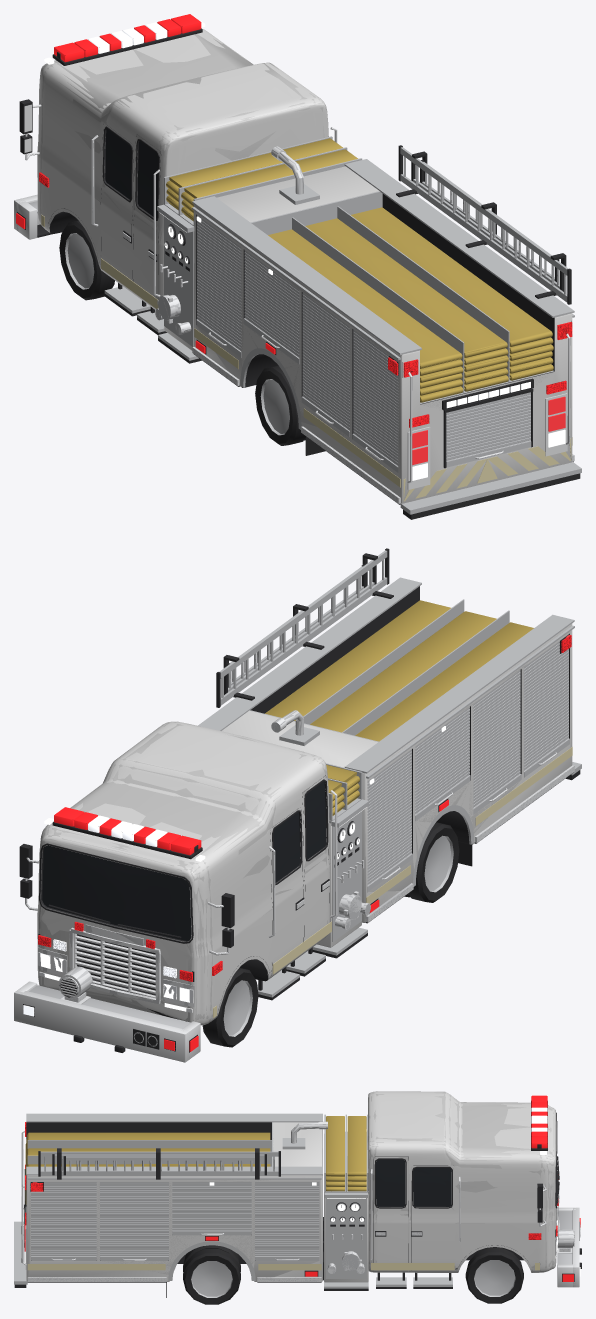
The model's file is road_fire_engine.glb.
The picture shows the model from 3 angles, top to bottom: view 1: azimuth 30°, elevation 25°; view 2: azimuth 150°, elevation 25°; view 3: azimuth 270°, elevation 25°; orthographic projection. The views are drawn at different scales.
Parts seen in each view (by area): view 1: road_fire_engine, road_fire_engine_far; view 2: road_fire_engine, road_fire_engine_far; view 3: road_fire_engine, road_fire_engine_far.
Part boxes in pixels (x1,y1,x2,y2): road_fire_engine: (14,14,581,519); road_fire_engine_far: (19,26,581,519); road_fire_engine: (14,548,581,1062); road_fire_engine_far: (19,548,581,1052); road_fire_engine: (14,1091,581,1297); road_fire_engine_far: (14,1091,580,1304).
Size of the model in its own units: 3.07 by 3.14 by 10.04.
